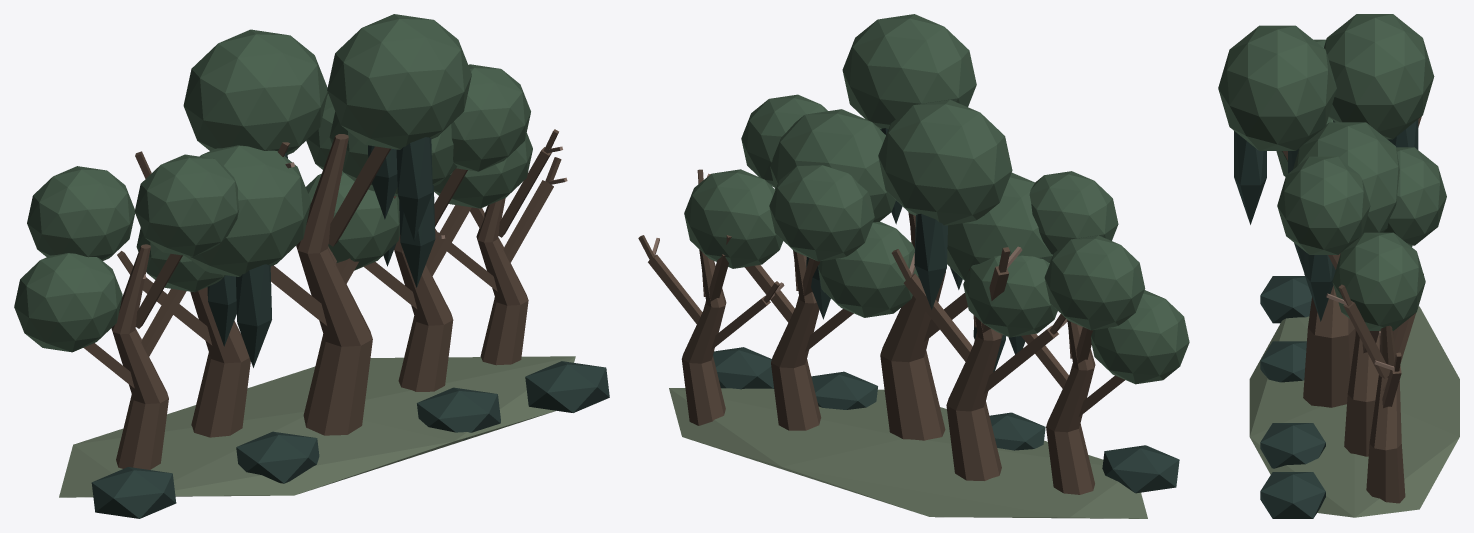
File: HauntedWoods_ForestBackdrop_Standard.glb
The picture shows the model from 3 angles, left to right: view 1: azimuth 30°, elevation 25°; view 2: azimuth 150°, elevation 25°; view 3: azimuth 270°, elevation 25°; orthographic projection. The views are drawn at different scales.
Parts seen in each view (by area): view 1: HauntedWoods_ForestBackdrop_Standard; view 2: HauntedWoods_ForestBackdrop_Standard; view 3: HauntedWoods_ForestBackdrop_Standard.
Boxes of the visible parts, x1,y1,x2,y2 form: HauntedWoods_ForestBackdrop_Standard: (14, 14, 609, 518); HauntedWoods_ForestBackdrop_Standard: (638, 14, 1189, 518); HauntedWoods_ForestBackdrop_Standard: (1218, 14, 1459, 518).
Size of the model in its own units: 15.58 by 11.79 by 6.26.
